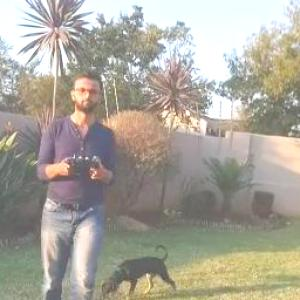follow: (32, 66, 117, 298)
null: (99, 239, 178, 299)
